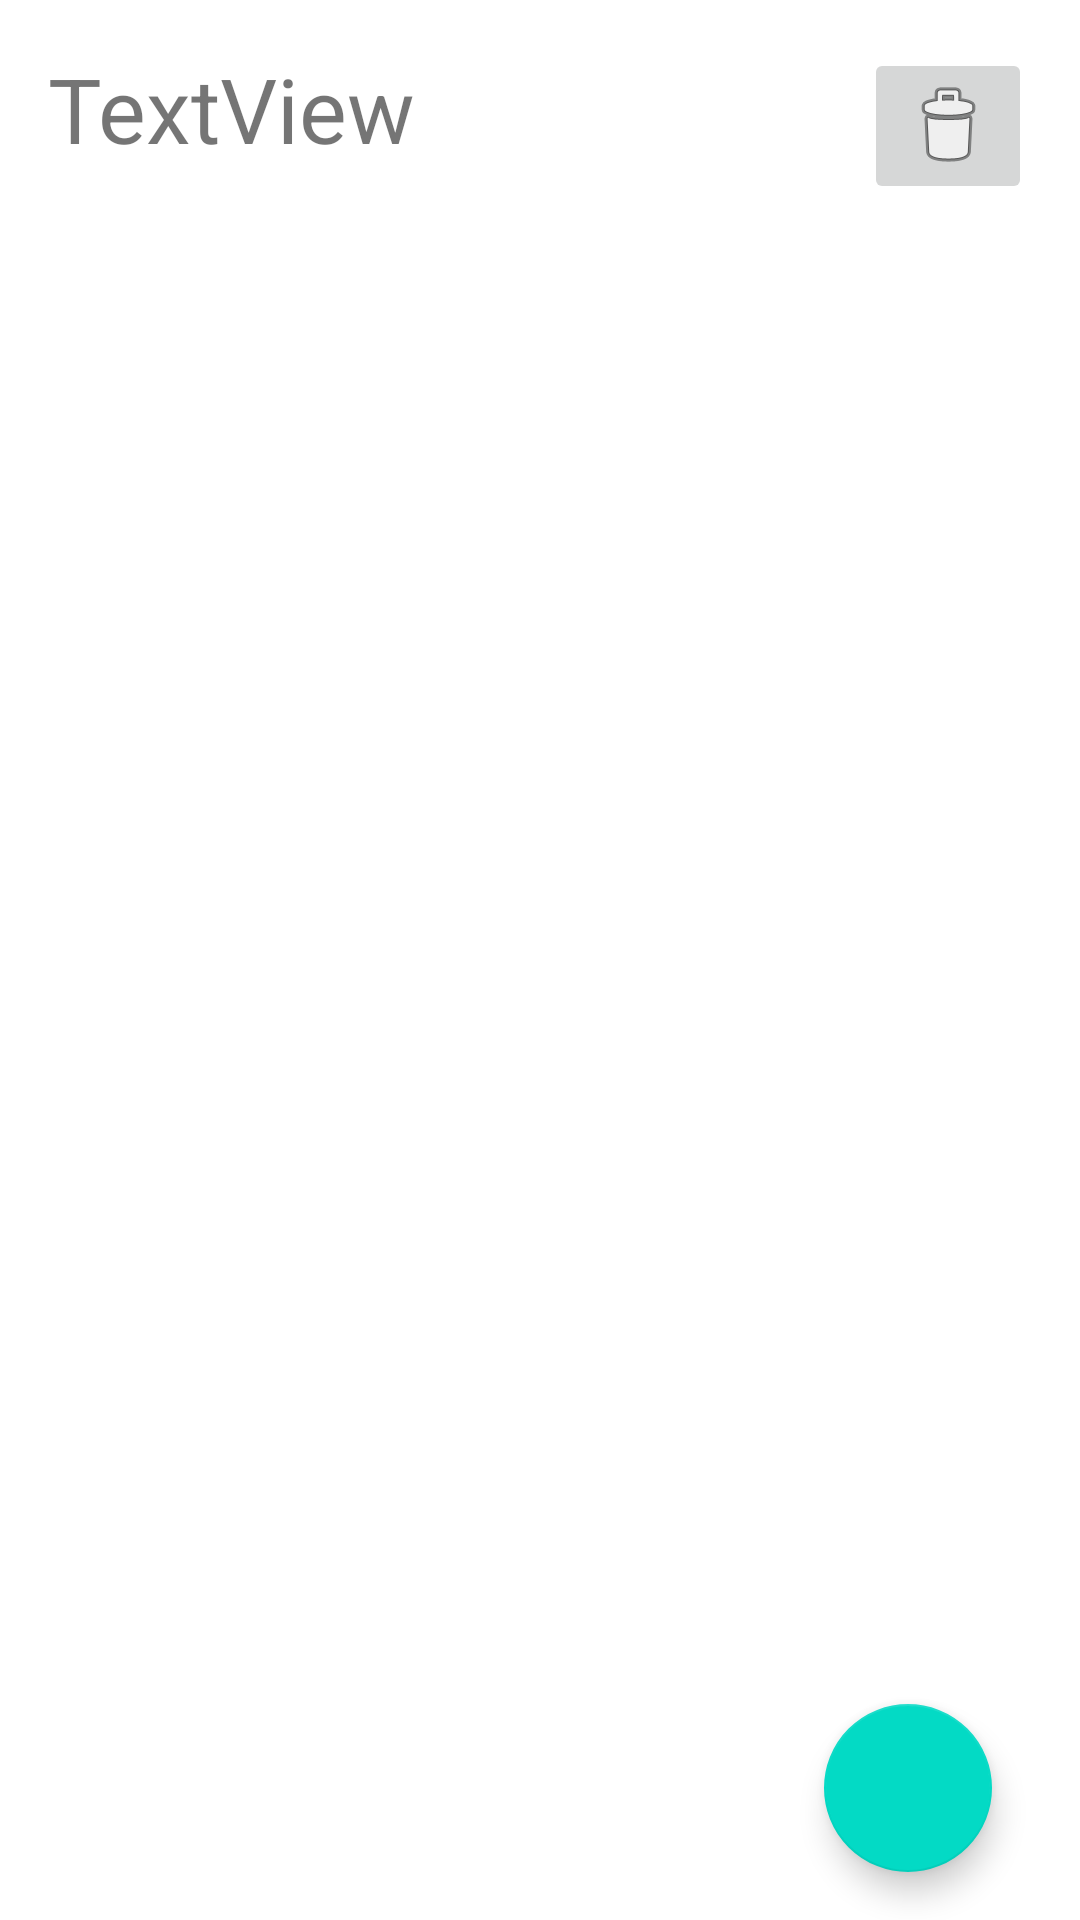

Where icons sit on this 1080×1920 app screen, as (x1=x1, y1=y1, x2=x2, y2=y2):
delete: (x1=876, y1=66, x2=1020, y2=186)
